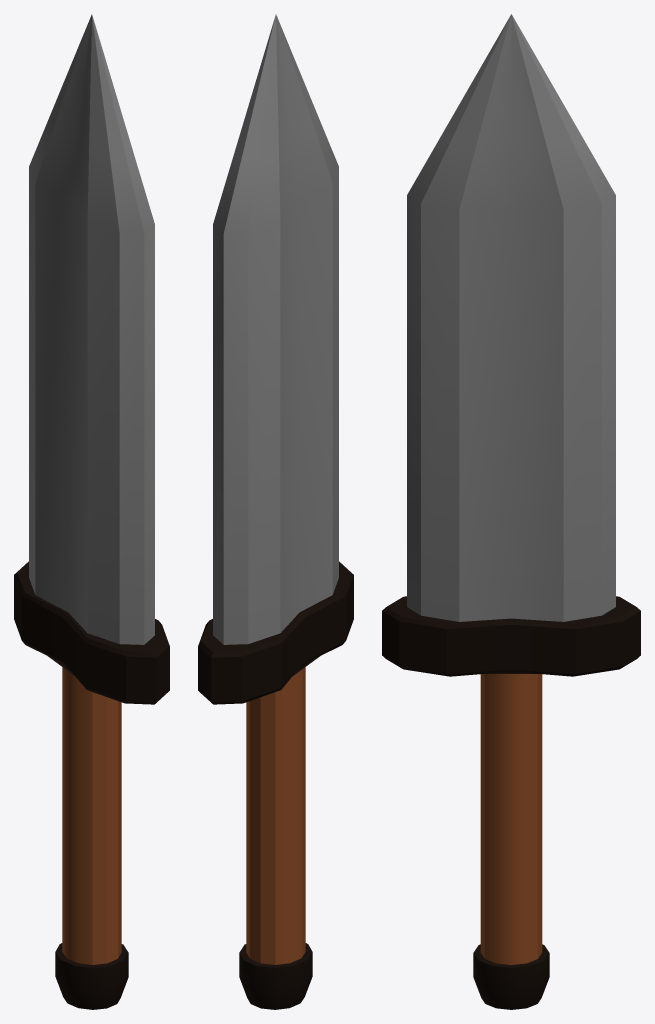
Rendered from Espada Texturizada.fbx.
The picture shows the model from 3 angles, left to right: view 1: azimuth 30°, elevation 25°; view 2: azimuth 150°, elevation 25°; view 3: azimuth 270°, elevation 25°; orthographic projection.
Parts seen in each view (by area): view 1: Espada; view 2: Espada; view 3: Espada.
Part boxes in pixels (box(x1,y1,x2,y2)): Espada: box(14, 14, 169, 1009); Espada: box(198, 14, 353, 1009); Espada: box(382, 14, 640, 1009).
Bounding box in the file's own units: 5.1 × 63.76 × 15.09.
